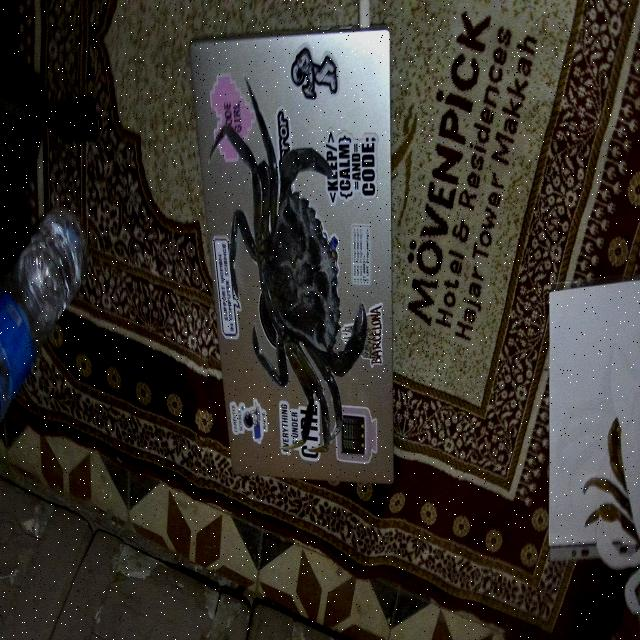European_Green_Crab: (188, 62, 399, 485)
